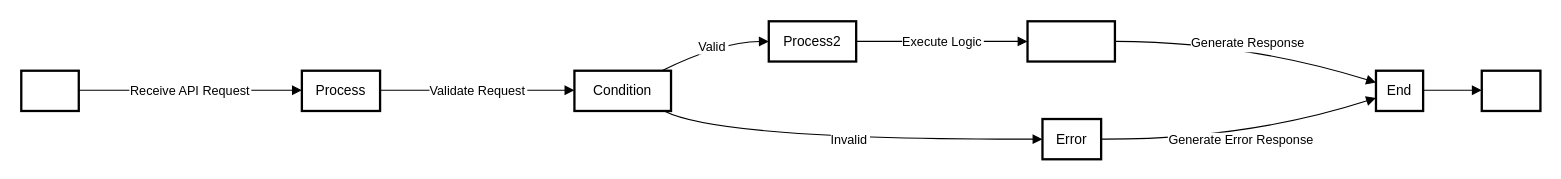
Some shapes in this 1561 by 179 pixel diagram are drawn without their labels. Here are the shapes that lost their labels. From the top down, the centre of each, then its label:
At point 1071,41: "Process3".
At point 49,90: "Start".
At point 1510,90: "Done".
